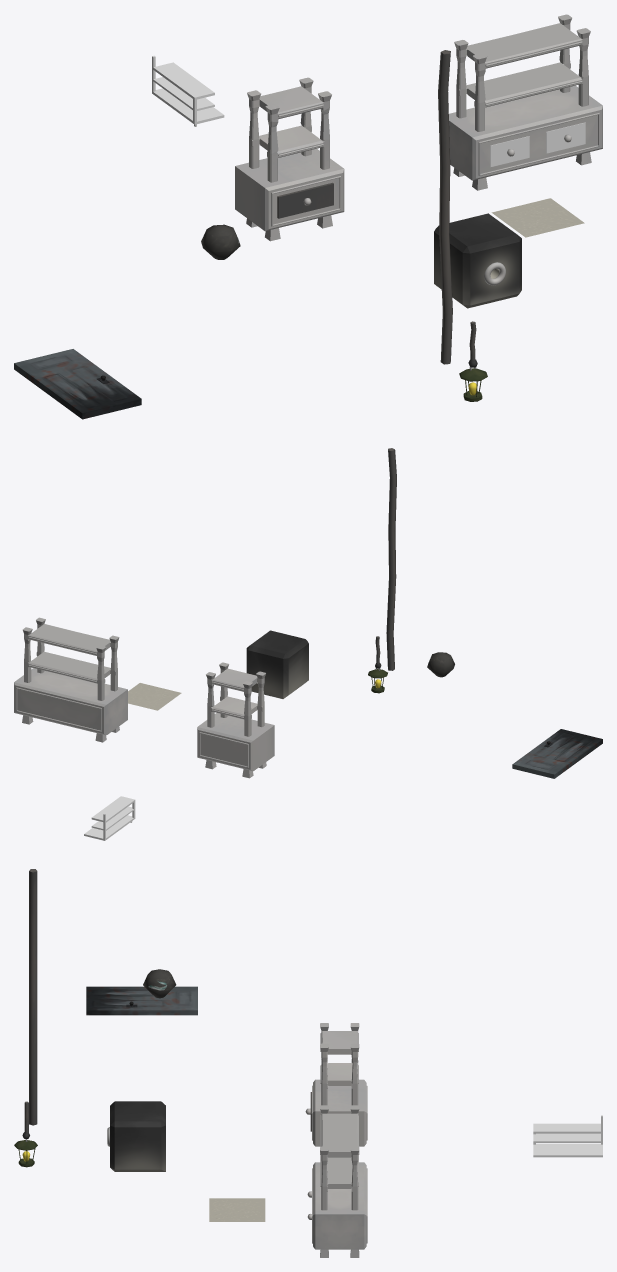
The model's file is decor2.FBX.
3 views of the same model, one above another, from view 1: azimuth 30°, elevation 25°; view 2: azimuth 150°, elevation 25°; view 3: azimuth 270°, elevation 25° (orthographic). The views are drawn at different scales.
Visible parts, largest first — view 1: etagere002, etagere1, cube_rayon, Box001, long cylindre lampe, Box003, plafond, tiroir etagere 2, lanceur de lazer, tiroir etagere longue1, tiroir etagere longue 2; view 2: etagere002, etagere1, cube_rayon, Box001, long cylindre lampe, Box003, plafond, lanceur de lazer; view 3: etagere002, etagere1, cube_rayon, Box001, Box003, long cylindre lampe, plafond, lanceur de lazer.
Part boxes in pixels (x1,y1,x2,y2): etagere002: (449, 14, 602, 190); etagere1: (235, 77, 344, 241); cube_rayon: (434, 213, 521, 308); Box001: (14, 349, 141, 419); long cylindre lampe: (438, 50, 452, 364); Box003: (152, 55, 224, 126); plafond: (491, 198, 584, 237); tiroir etagere 2: (277, 182, 333, 218); lanceur de lazer: (201, 224, 240, 259); tiroir etagere longue1: (490, 136, 529, 167); tiroir etagere longue 2: (546, 122, 585, 153); etagere002: (14, 617, 127, 742); etagere1: (197, 662, 274, 778); cube_rayon: (246, 630, 308, 698); Box001: (512, 729, 602, 778); long cylindre lampe: (386, 448, 396, 670); Box003: (84, 796, 135, 840); plafond: (128, 683, 181, 710); lanceur de lazer: (427, 652, 454, 677); etagere002: (312, 1105, 367, 1257); etagere1: (312, 1023, 367, 1154); cube_rayon: (110, 1101, 165, 1171); Box001: (86, 986, 197, 1015); Box003: (533, 1115, 602, 1157); long cylindre lampe: (29, 869, 37, 1125); plafond: (209, 1198, 265, 1221); lanceur de lazer: (143, 969, 176, 998).
Bounding box in the file's own units: 1115 × 562 × 1054.
